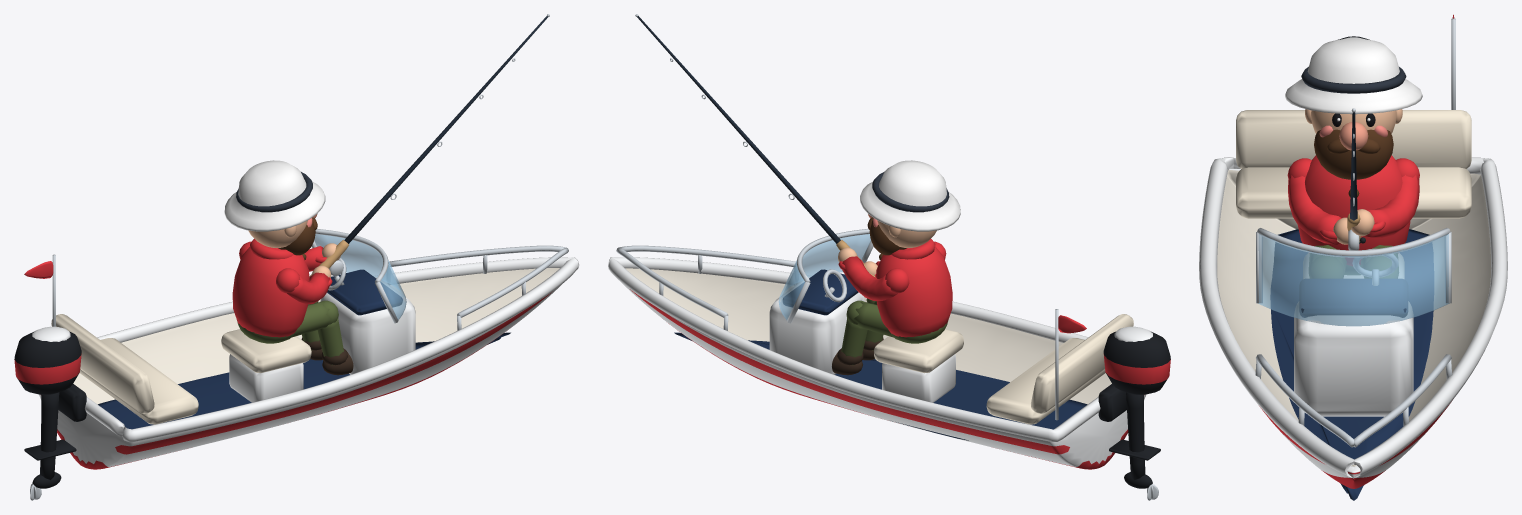
File: boat_speed.glb
3 views of the same model, side by side, from view 1: azimuth 30°, elevation 25°; view 2: azimuth 150°, elevation 25°; view 3: azimuth 270°, elevation 25° (orthographic). The views are drawn at different scales.
Parts seen in each view (by area): view 1: Boat, Rod; view 2: Boat, Rod; view 3: Boat, Rod.
Part boxes in pixels (left/top/right/bottom): Boat: left=14, top=160, right=579, bottom=500; Rod: left=309, top=14, right=549, bottom=276; Boat: left=608, top=160, right=1170, bottom=500; Rod: left=635, top=14, right=875, bottom=277; Boat: left=1199, top=14, right=1507, bottom=500; Rod: left=1347, top=108, right=1365, bottom=250.
Size of the model in its own units: 4.79 by 2.95 by 1.7.
